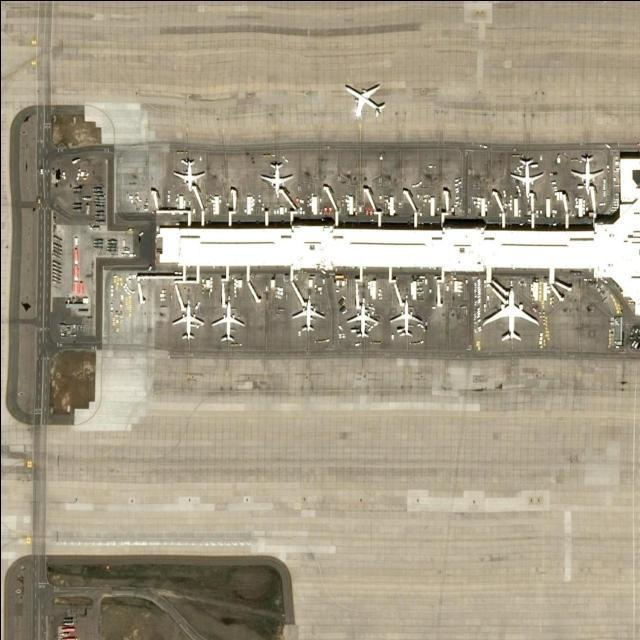Aircraft: (480, 287, 540, 343), (338, 79, 385, 119), (565, 152, 605, 192), (288, 297, 327, 335), (167, 300, 203, 341), (254, 158, 294, 194), (388, 299, 426, 336), (346, 300, 380, 340), (509, 156, 543, 194), (210, 303, 242, 343), (172, 157, 206, 191)
